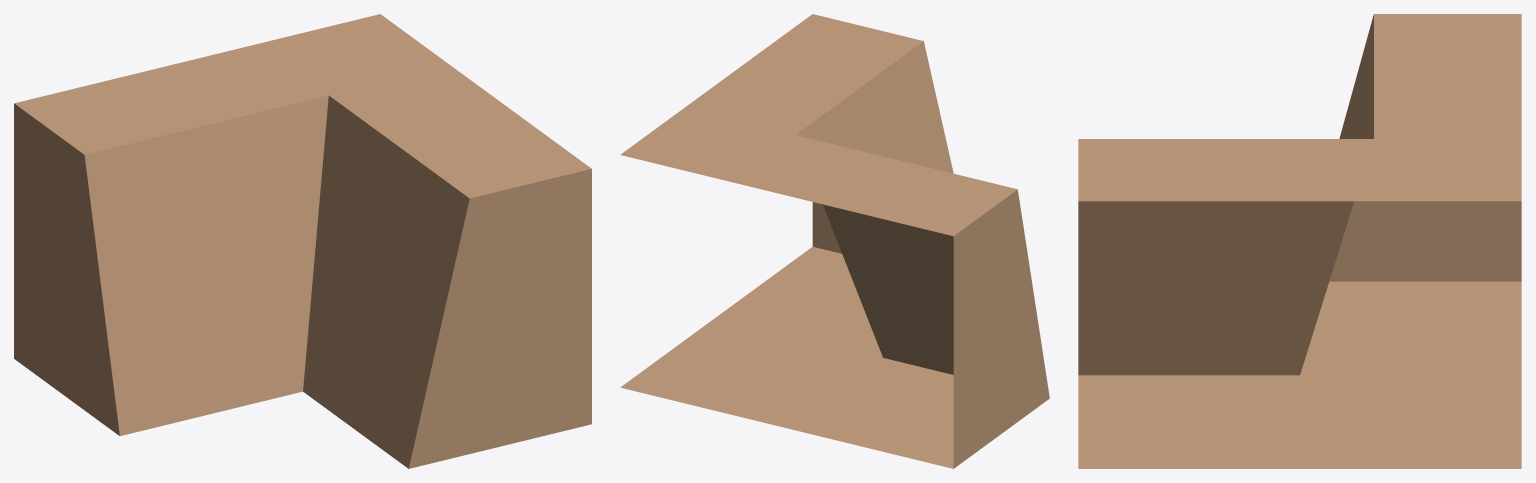
Rendered from DungeonCorner.fbx.
3 renders of one model, left to right at view 1: azimuth 30°, elevation 25°; view 2: azimuth 150°, elevation 25°; view 3: azimuth 270°, elevation 25°, orthographic. The views are drawn at different scales.
Parts seen in each view (by area): view 1: Pillar.001; view 2: Pillar.001; view 3: Pillar.001.
Boxes of the visible parts, x1,y1,x2,y2 form: Pillar.001: (14, 14, 591, 468); Pillar.001: (620, 14, 1049, 468); Pillar.001: (1078, 14, 1521, 468).
Size of the model in its own units: 3 by 2 by 3.
